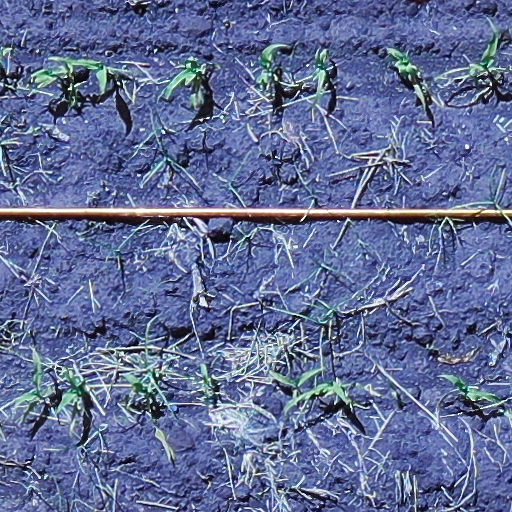planta: (162, 56, 221, 106), (386, 46, 427, 112), (13, 349, 50, 416), (464, 17, 506, 76), (267, 366, 325, 407), (47, 56, 107, 94), (282, 381, 351, 414), (30, 63, 75, 108), (442, 374, 501, 403), (256, 43, 287, 92), (57, 365, 85, 413), (311, 48, 333, 102), (124, 373, 157, 408), (200, 364, 216, 399)
